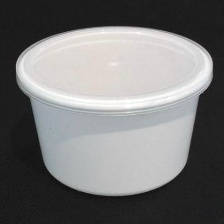plastic_box: (9, 16, 218, 204)
